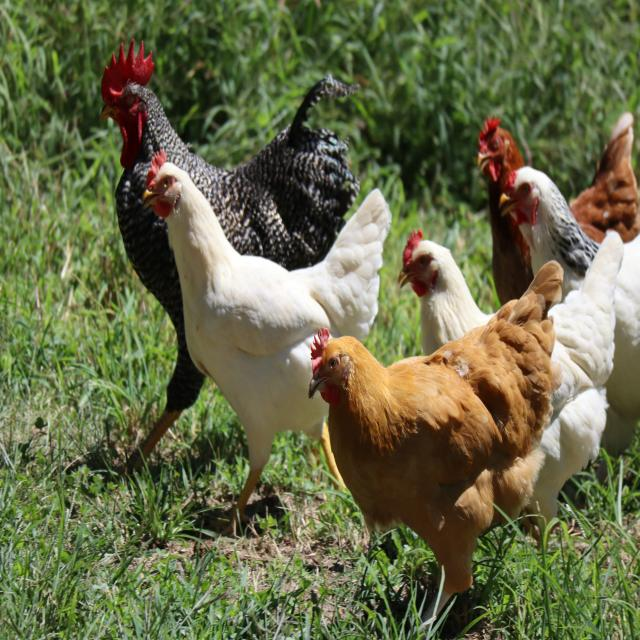Chicken: (304, 312, 556, 590), (143, 160, 303, 487), (504, 157, 624, 296), (393, 209, 492, 352), (470, 106, 515, 180)
